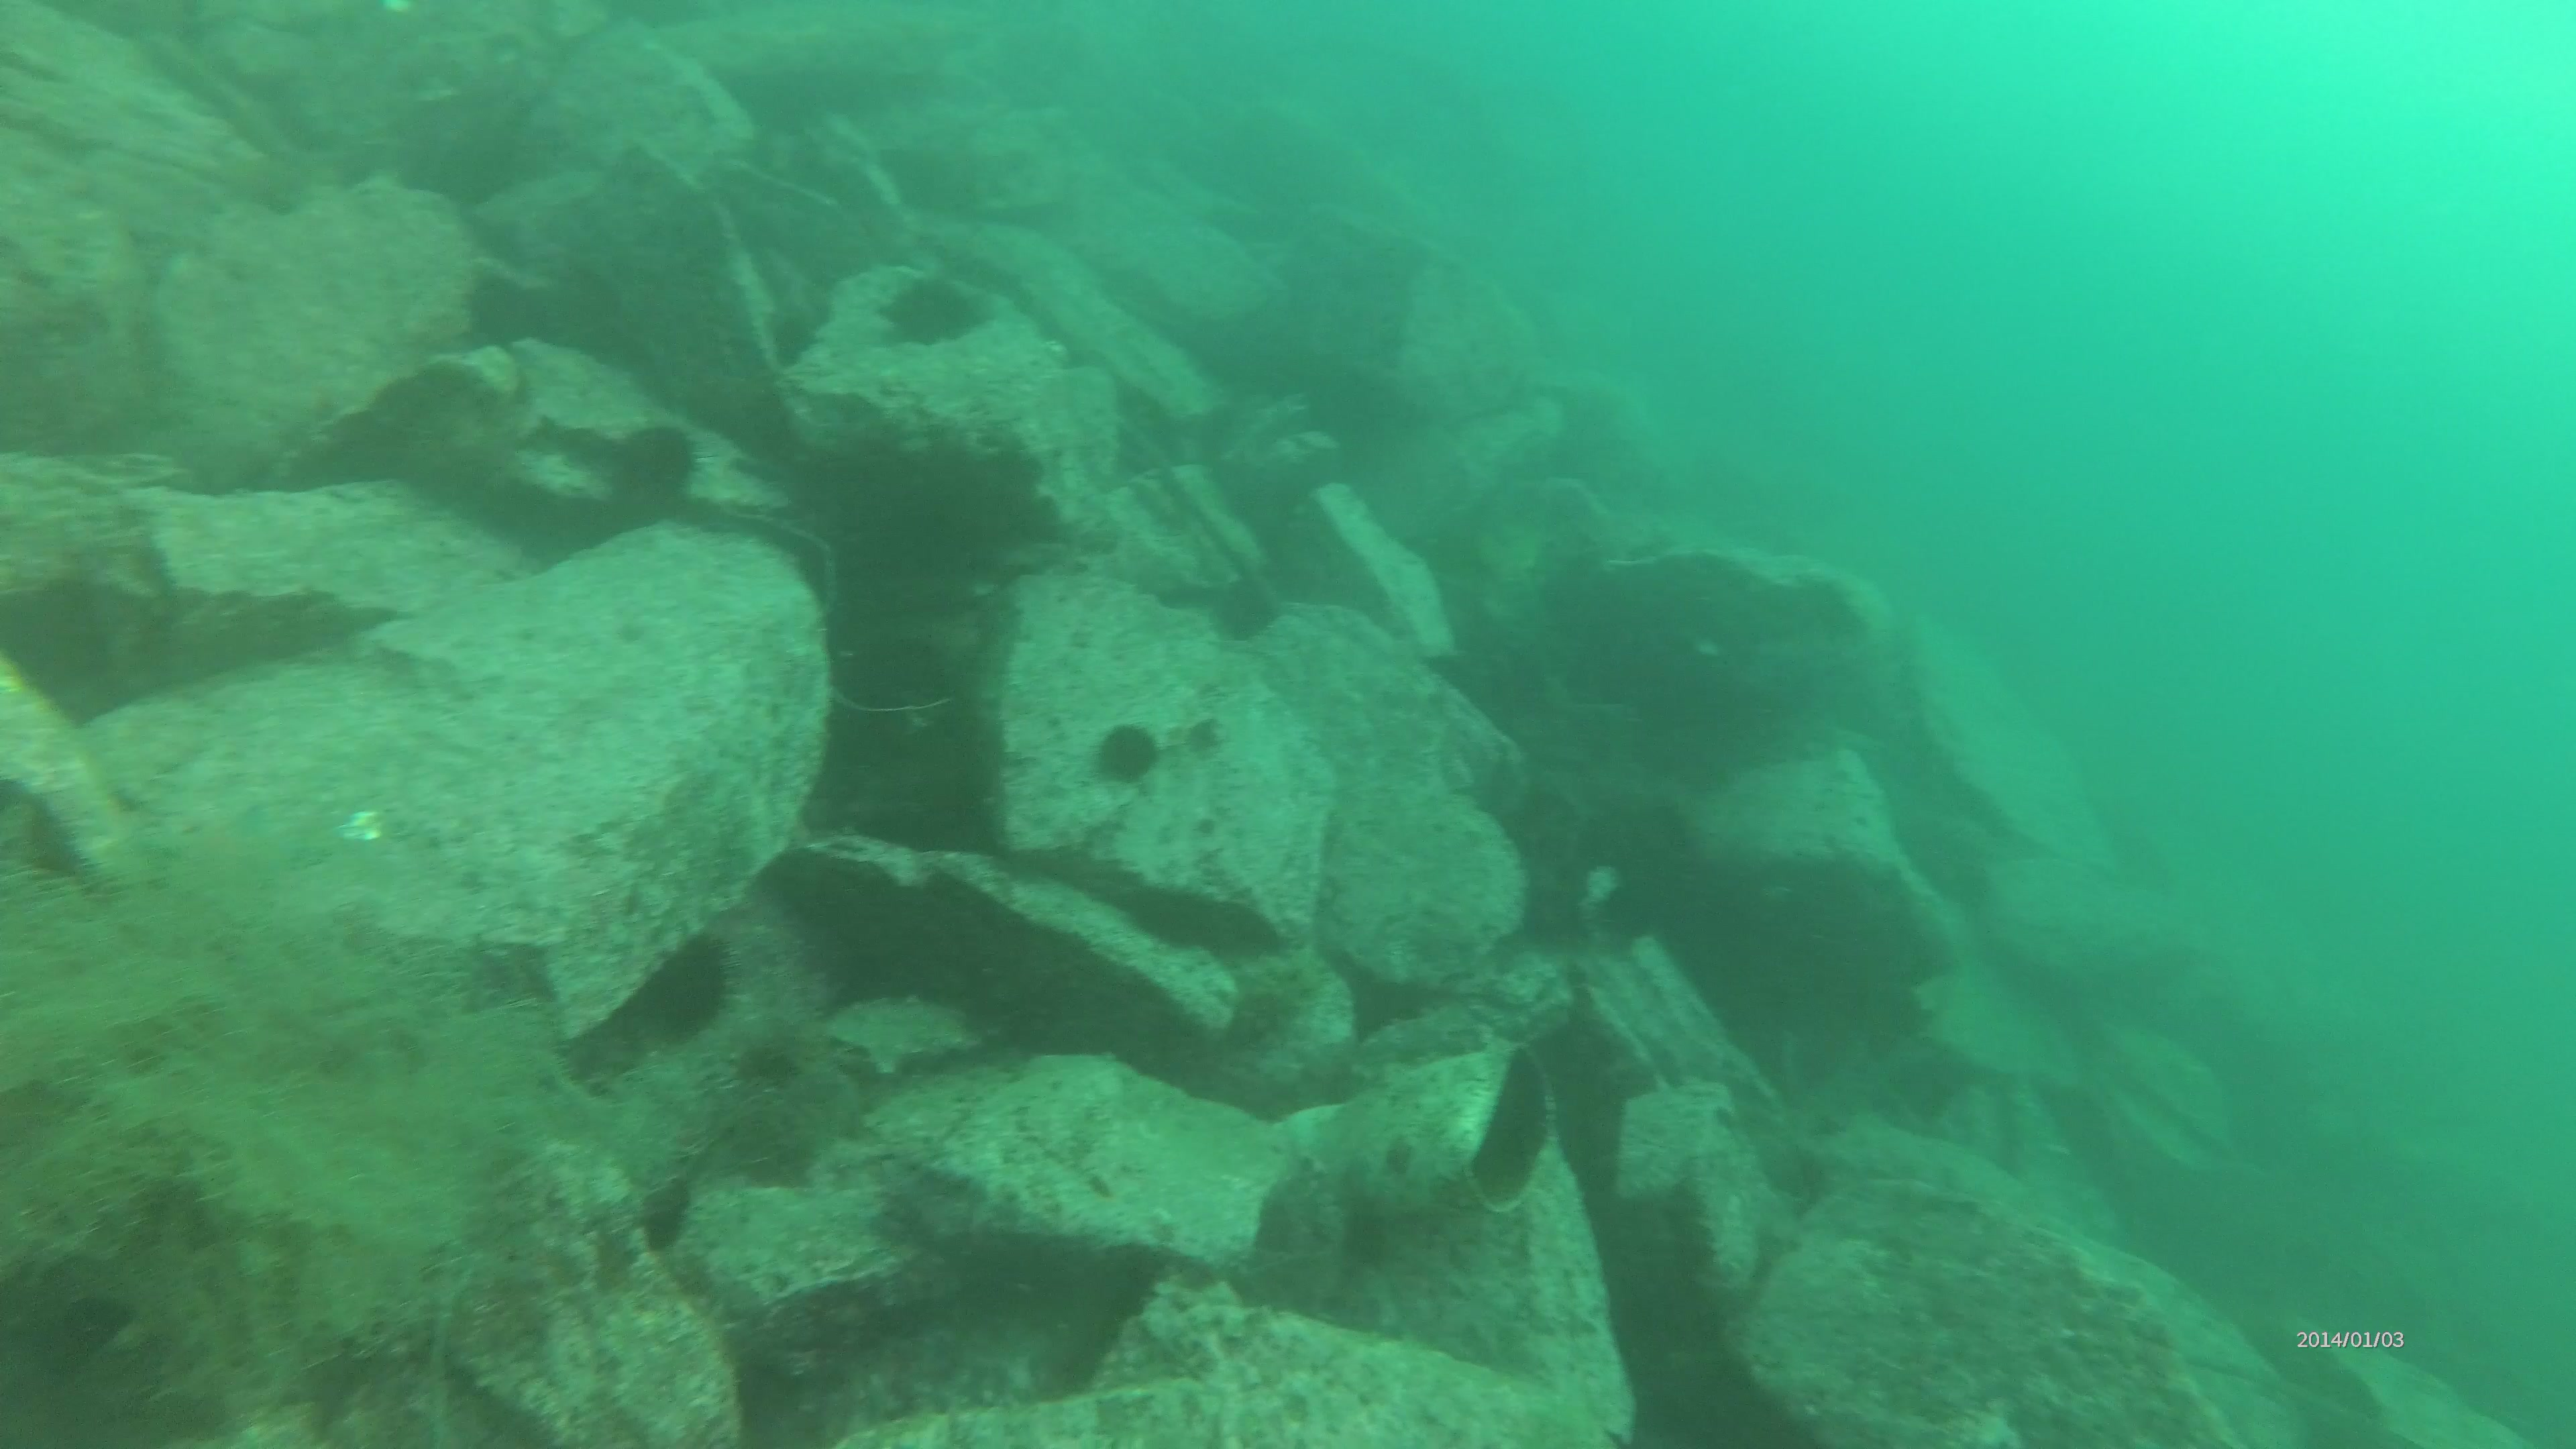echinus: (644, 932, 752, 1046), (878, 271, 987, 356), (607, 418, 690, 529), (464, 262, 545, 356), (1203, 568, 1288, 648), (1088, 713, 1168, 796)
